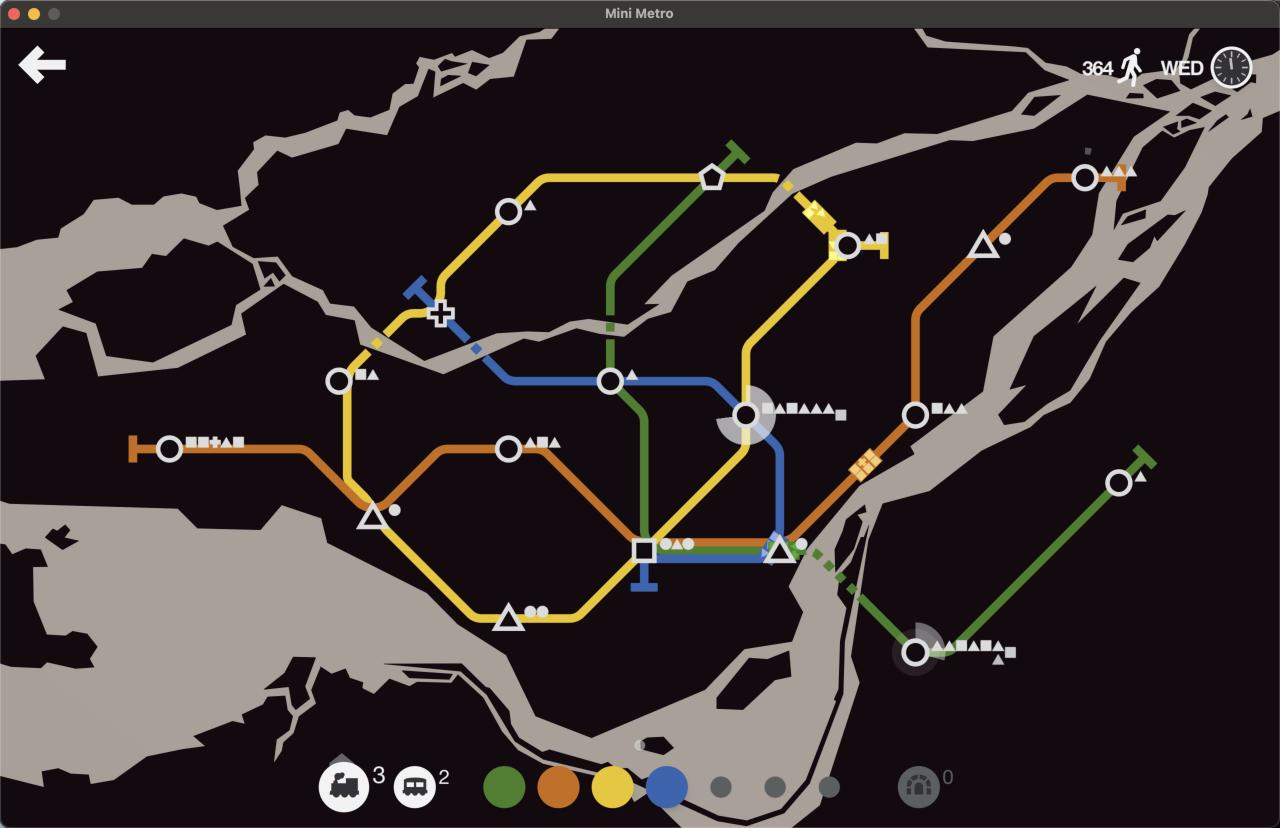CIRCLE: (899, 636, 932, 669), (832, 230, 862, 260), (596, 367, 626, 396), (1104, 468, 1134, 497), (900, 401, 930, 430), (732, 400, 761, 430), (1070, 163, 1100, 192), (324, 367, 353, 396), (155, 434, 184, 463), (494, 197, 523, 225), (495, 434, 523, 463)
CROSS: (427, 300, 455, 327)
PENTAGON: (698, 162, 726, 192)
SQUARE: (631, 537, 657, 564)
TRIANGLE: (762, 534, 797, 566), (967, 228, 1003, 259), (492, 601, 526, 632), (356, 501, 391, 531)
